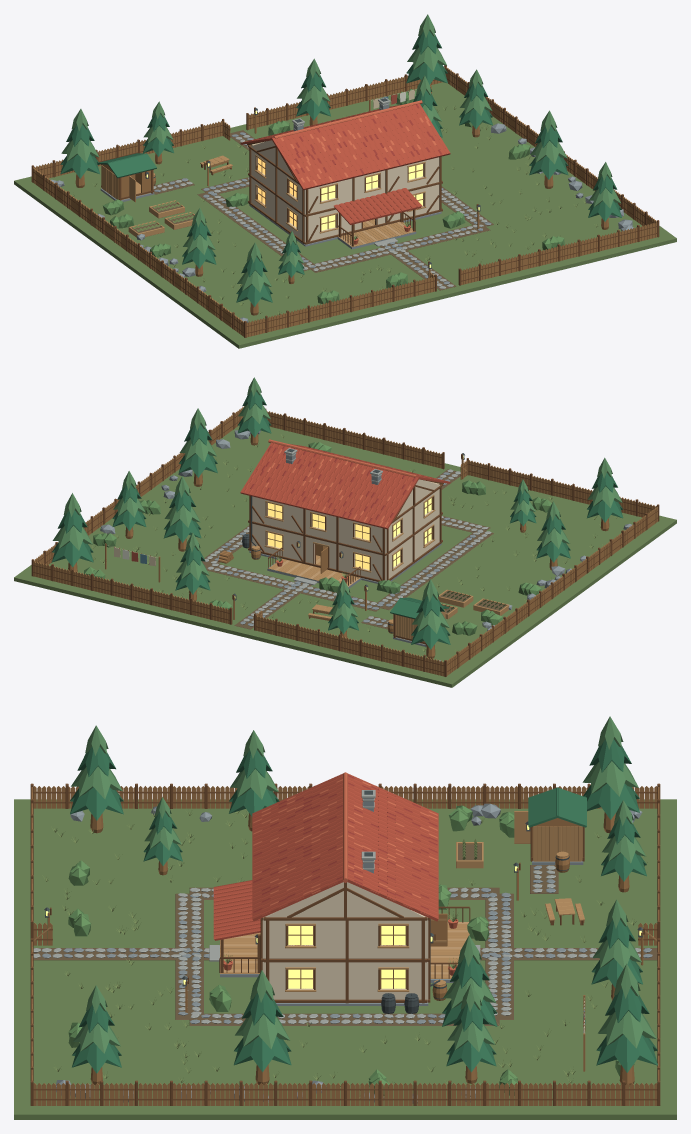
The model's file is Environment.fbx.
3 views of the same model, one above another, from view 1: azimuth 30°, elevation 25°; view 2: azimuth 150°, elevation 25°; view 3: azimuth 270°, elevation 25° (orthographic). The views are drawn at different scales.
Parts seen in each view (by area): view 1: CASA_Terrain_Dry_Property, CASA_Roof_Main_-1, CASA_Path_DryLane_1, CASA_Path_DryLane_2, CASA_Shed_Roof_-1, CASA_Wall_Upper_Front_4_0, CASA_Wall_Upper_Front_2_0, CASA_Pine_07_Leaves_Tier_0, CASA_Pine_04_Leaves_Tier_0, CASA_Pine_03_Leaves_Tier_0, CASA_Path_DryLane_0, CASA_Pine_07_Leaves_Tier_1 (+3 smaller); view 2: CASA_Terrain_Dry_Property, CASA_Roof_Main_1, CASA_Path_DryLane_2, CASA_Path_DryLane_4, CASA_Wall_Ground_Rear_4_0, CASA_Wall_Upper_Rear_2_0, CASA_Wall_Upper_Rear_4_0, CASA_Pine_07_Leaves_Tier_0, CASA_Wall_Ground_Rear_2_0, CASA_Path_DryLane_5, CASA_Pine_04_Leaves_Tier_0, CASA_Pine_03_Leaves_Tier_0 (+7 smaller); view 3: CASA_Terrain_Dry_Property, CASA_Roof_Main_-1, CASA_Roof_Main_1, CASA_Gable_6.88, CASA_Wall_Upper_East_2_0, CASA_Wall_Ground_East_2_0, CASA_Path_DryLane_1, CASA_Path_DryLane_3, CASA_Path_DryLane_4, CASA_Pine_07_Leaves_Tier_0, CASA_Path_DryLane_0, CASA_Pine_03_Leaves_Tier_0 (+32 smaller).
Boxes of the visible parts, box(x1,y1,x2,y2) form: CASA_Terrain_Dry_Property: box(14, 82, 676, 348); CASA_Roof_Main_-1: box(271, 103, 450, 190); CASA_Path_DryLane_1: box(311, 225, 490, 272); CASA_Path_DryLane_2: box(197, 192, 318, 270); CASA_Shed_Roof_-1: box(107, 153, 156, 178); CASA_Wall_Upper_Front_4_0: box(379, 164, 408, 194); CASA_Wall_Upper_Front_2_0: box(336, 175, 365, 204); CASA_Pine_07_Leaves_Tier_0: box(406, 62, 447, 84); CASA_Pine_04_Leaves_Tier_0: box(60, 154, 99, 178); CASA_Pine_03_Leaves_Tier_0: box(529, 155, 568, 179); CASA_Path_DryLane_0: box(379, 242, 456, 290); CASA_Pine_07_Leaves_Tier_1: box(407, 46, 446, 71); CASA_Terrain_Dry_Property: box(14, 425, 676, 687); CASA_Roof_Main_1: box(240, 442, 419, 529); CASA_Path_DryLane_2: box(377, 529, 493, 609); CASA_Path_DryLane_4: box(205, 562, 384, 611); CASA_Wall_Ground_Rear_4_0: box(282, 531, 314, 563); CASA_Wall_Upper_Rear_2_0: box(325, 514, 354, 545); CASA_Wall_Upper_Rear_4_0: box(282, 504, 311, 535); CASA_Pine_07_Leaves_Tier_0: box(51, 541, 93, 567); CASA_Wall_Ground_Rear_2_0: box(328, 542, 354, 573); CASA_Path_DryLane_5: box(234, 581, 311, 629); CASA_Pine_04_Leaves_Tier_0: box(411, 625, 450, 649); CASA_Pine_03_Leaves_Tier_0: box(179, 454, 217, 477); CASA_Terrain_Dry_Property: box(14, 799, 676, 1119); CASA_Roof_Main_-1: box(252, 773, 343, 921); CASA_Roof_Main_1: box(347, 773, 438, 921); CASA_Gable_6.88: box(265, 882, 425, 917); CASA_Wall_Upper_East_2_0: box(314, 920, 380, 958); CASA_Wall_Ground_East_2_0: box(314, 962, 380, 999); CASA_Path_DryLane_1: box(175, 893, 203, 1019); CASA_Path_DryLane_3: box(189, 1013, 499, 1025); CASA_Path_DryLane_4: box(485, 893, 513, 1019); CASA_Pine_07_Leaves_Tier_0: box(596, 1034, 657, 1072); CASA_Path_DryLane_0: box(33, 948, 209, 960); CASA_Pine_03_Leaves_Tier_0: box(234, 1036, 291, 1072).
Size of the model in its own units: 45 by 9.44 by 40.
